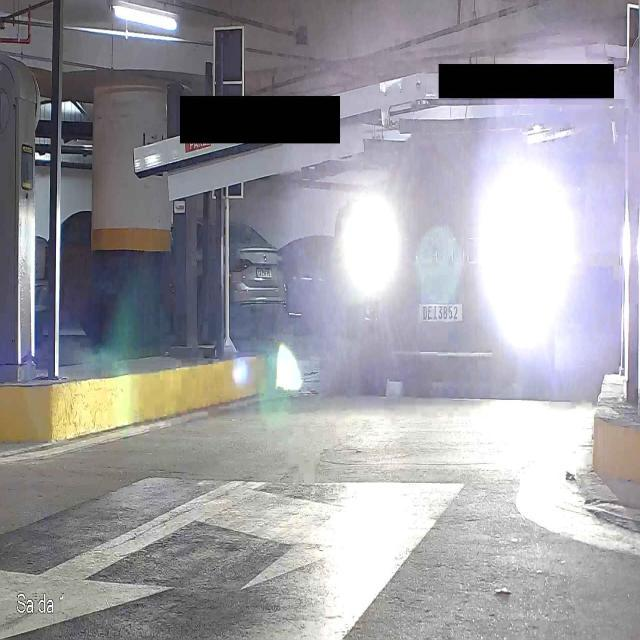mercosul_plate: (416, 298, 465, 324)
